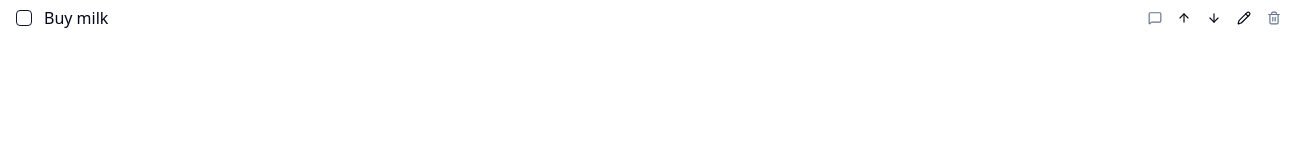
TaskRow › names the edit inputs after the task being edited
This screenshot has width=1304, height=160.
Click the 4th button named "Edit" at (1244, 18), box [1230, 4, 1258, 32]
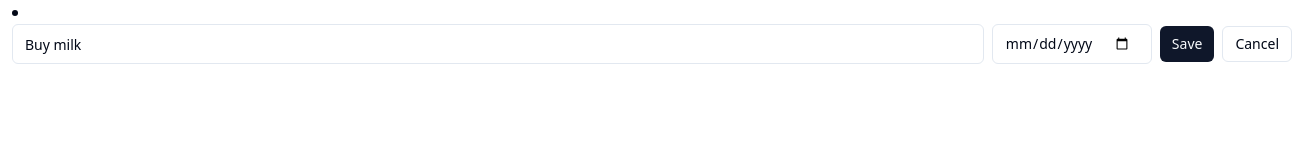
expect the field named "Edit title for Buy milk" is shown: met, box [12, 24, 984, 64]
expect the date field named "Edit due date for Buy milk" is shown: met, box [992, 24, 1152, 64]
